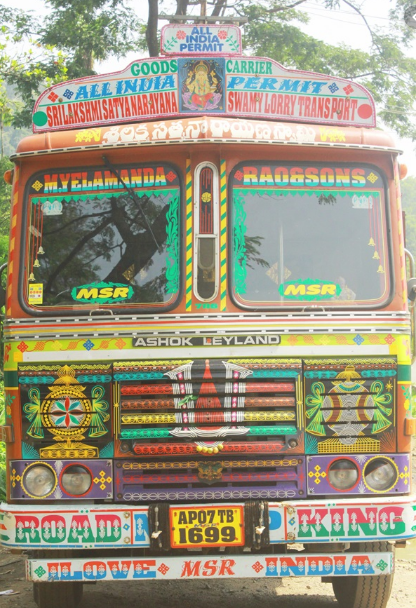truck: (1, 24, 413, 604)
